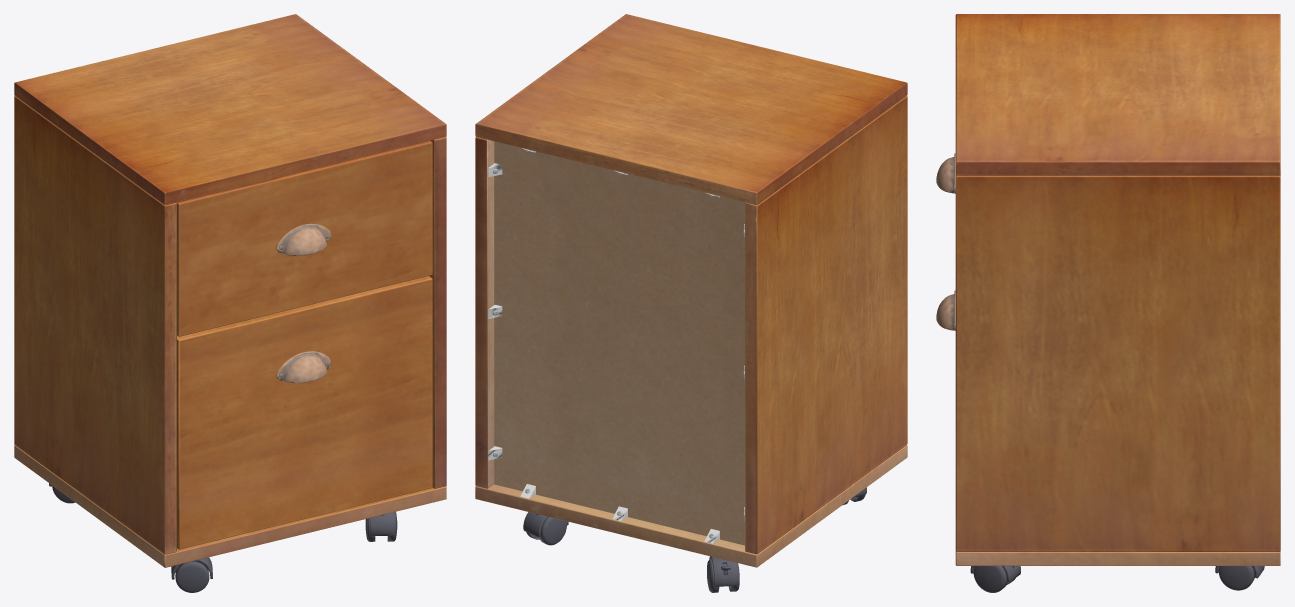
The picture shows the model from 3 angles, left to right: view 1: azimuth 30°, elevation 25°; view 2: azimuth 150°, elevation 25°; view 3: azimuth 270°, elevation 25°; orthographic projection. The views are drawn at different scales.
Visible parts, largest first — view 1: RootNode; view 2: RootNode; view 3: RootNode.
Part boxes in pixels (<box>): RootNode: <box>14,14,446,592</box>; RootNode: <box>475,14,907,592</box>; RootNode: <box>936,14,1280,592</box>.
Bounding box in the file's own units: 0.4089 × 0.579 × 0.4012.
1 material, 1 textured.
